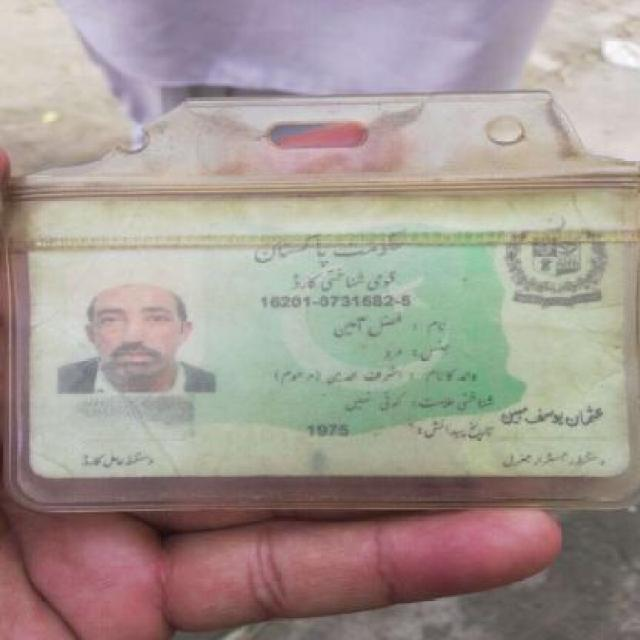Front: (14, 197, 629, 488)
